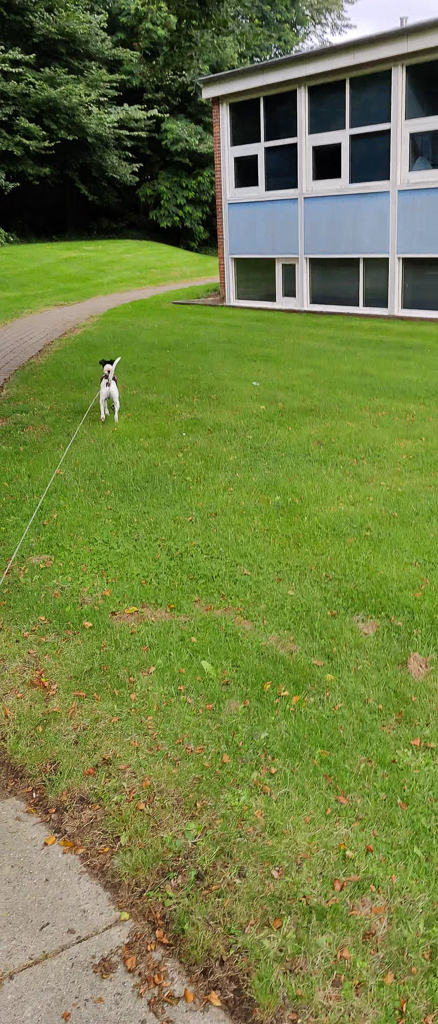Dog: (89, 352, 128, 427)
